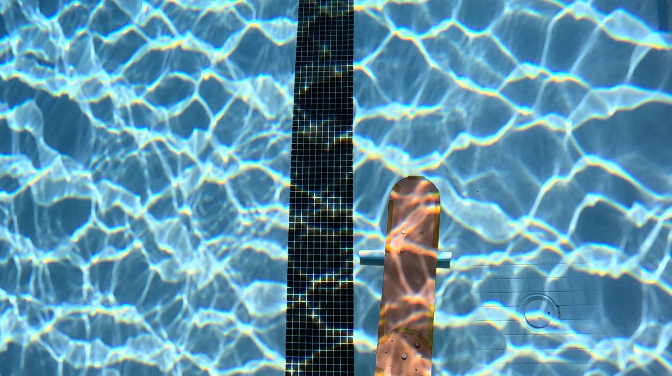pathmarker: (372, 174, 440, 372)
